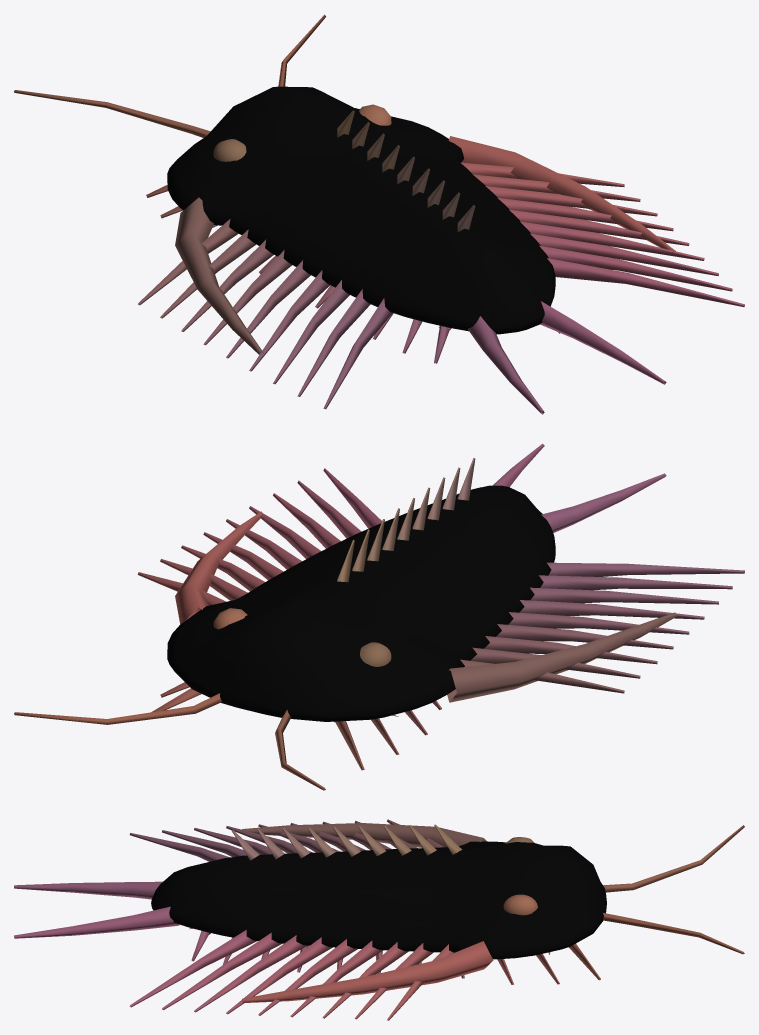
The model's file is trilobite_spiny_game.glb.
3 views of the same model, one above another, from view 1: azimuth 30°, elevation 25°; view 2: azimuth 150°, elevation 25°; view 3: azimuth 270°, elevation 25° (orthographic). The views are drawn at different scales.
Parts seen in each view (by area): view 1: trilobite_spiny_game; view 2: trilobite_spiny_game; view 3: trilobite_spiny_game.
Part boxes in pixels (x1,y1,x2,y2): trilobite_spiny_game: (14,14,744,414); trilobite_spiny_game: (14,443,744,790); trilobite_spiny_game: (14,819,744,1020).
Size of the model in its own units: 0.2071 by 0.0539 by 0.3206.
